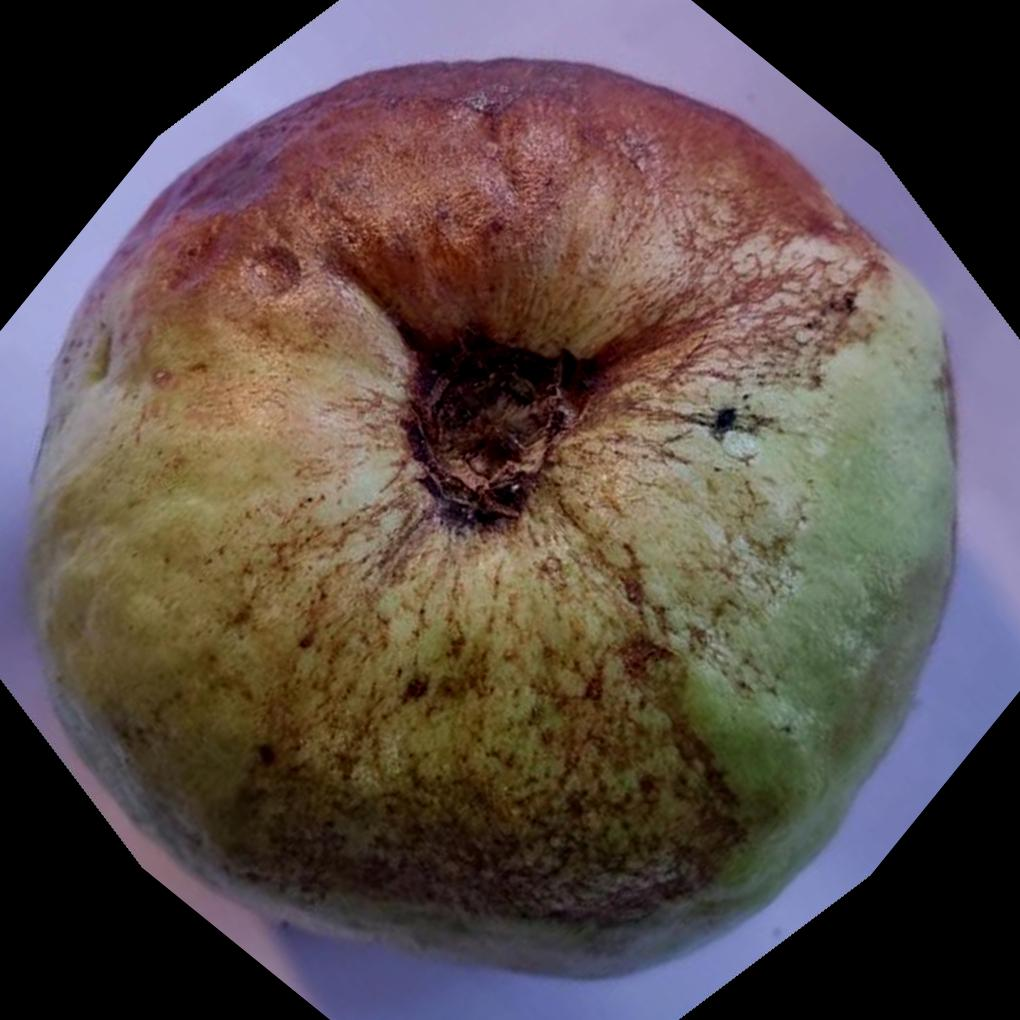FreshOrange: (18, 54, 957, 980)
